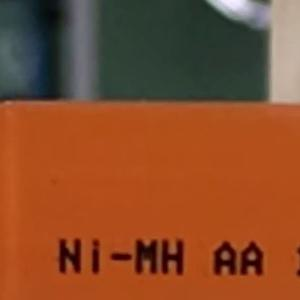keyword: (48, 230, 194, 283)
